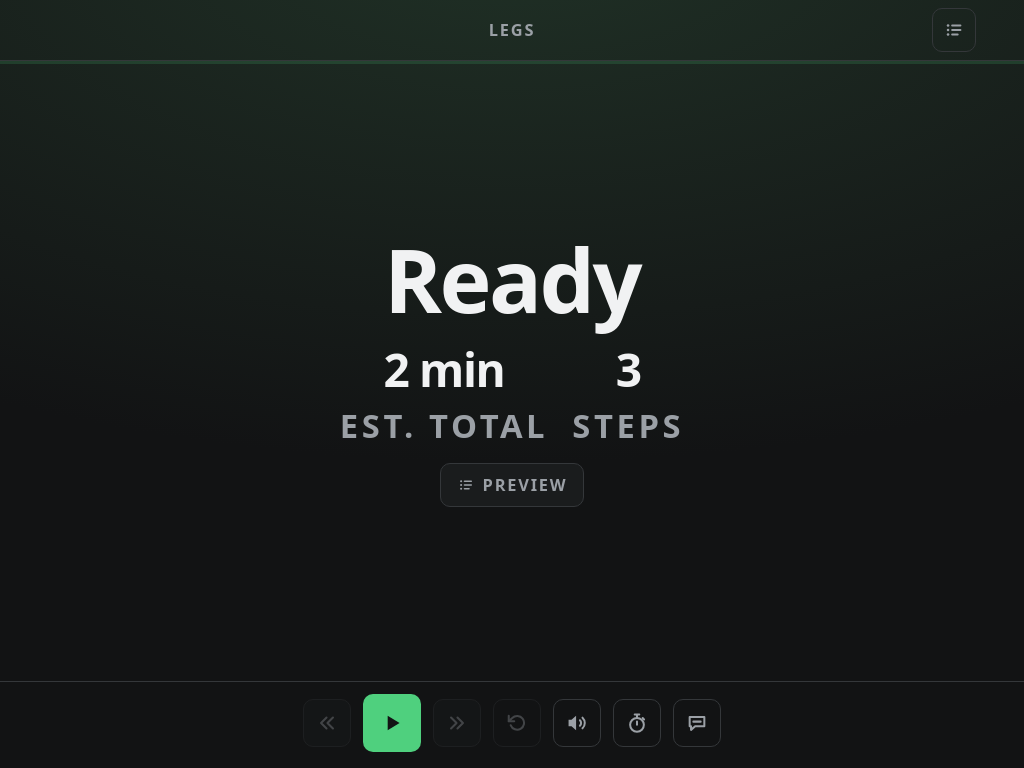
it: RunScreen: the preview › opens from the Ready card and closes from the header
Expected: the text "Ready" is shown, [384,238,640,322]
Click the button "Preview": {"x": 512, "y": 485} [440,463,584,507]
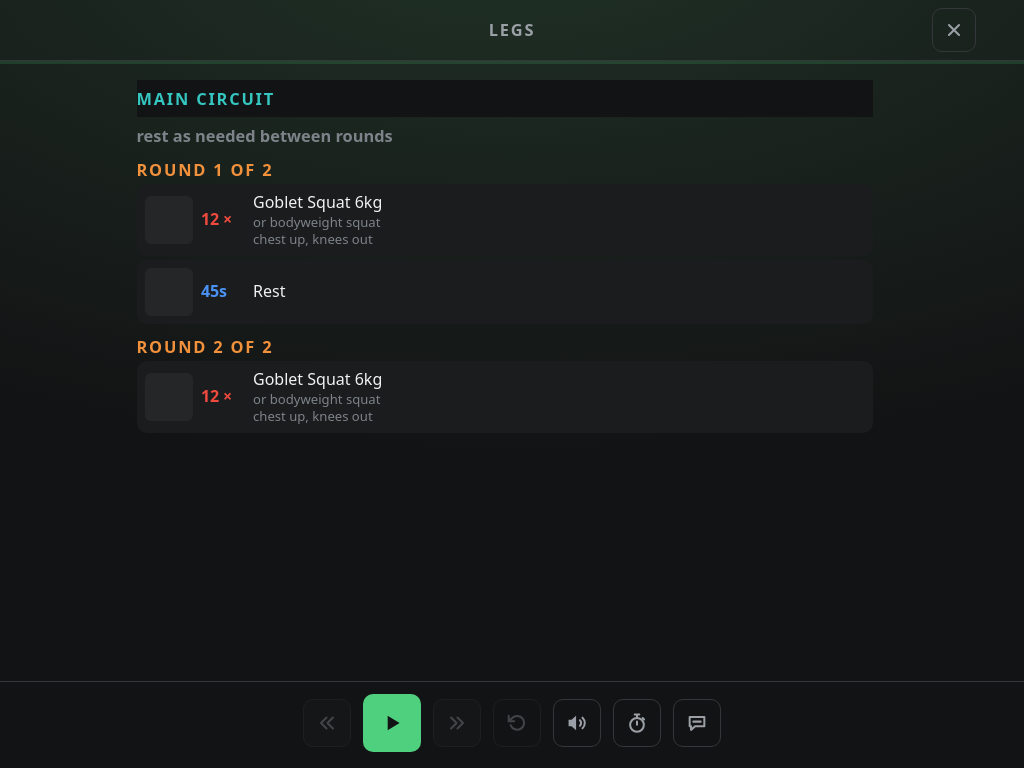
Result: the text "Ready" is gone
Result: the text "Round 2 of 2" is shown at [136,335,273,358]
Click the button named "Back to ready": {"x": 954, "y": 30} [932,8,976,52]
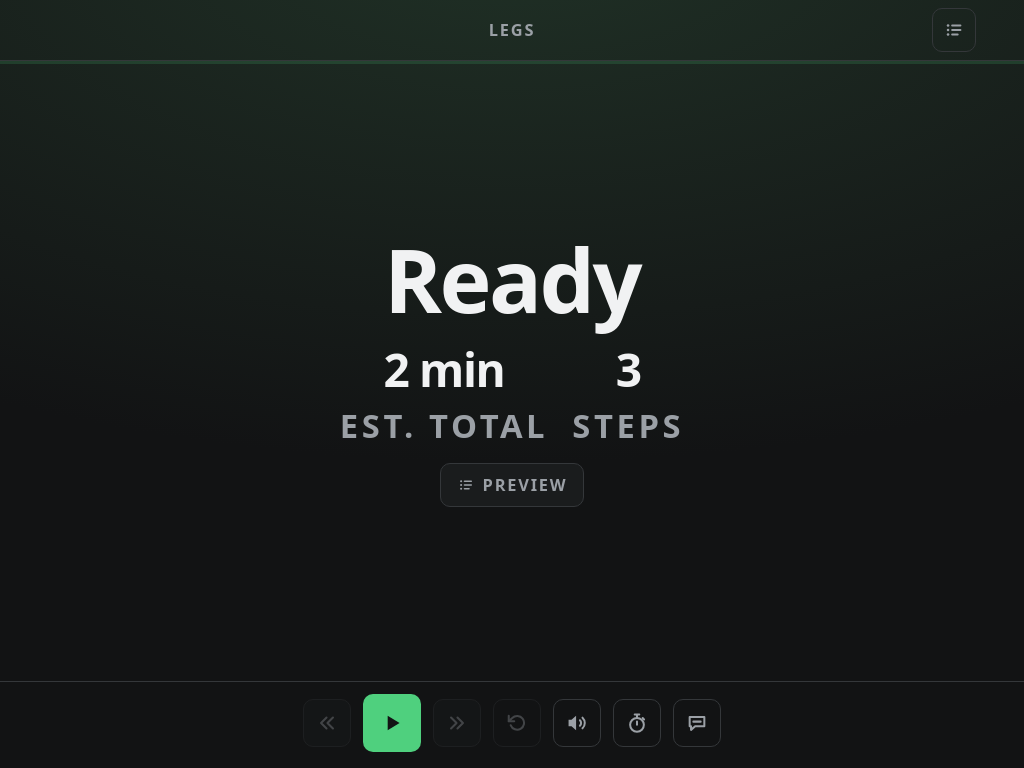
Result: the text "Ready" is shown at [384,238,640,322]
